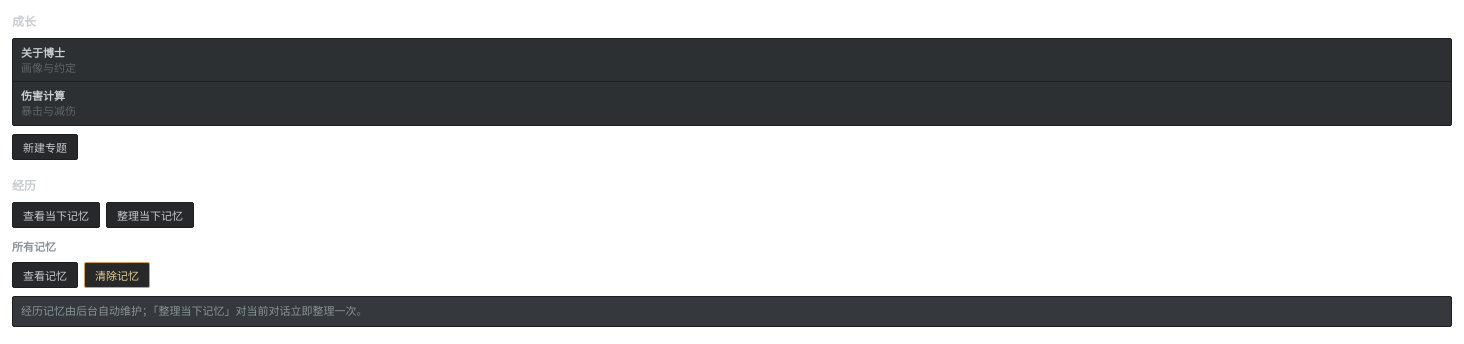
SettingsMemory（结构定稿） › 查看记忆：按日期分组（新在前）、默认只标题、点开看内容；无来源与标签
The image size is (1464, 344).
Click the button "查看记忆" at (45, 275), box [12,262,78,288]
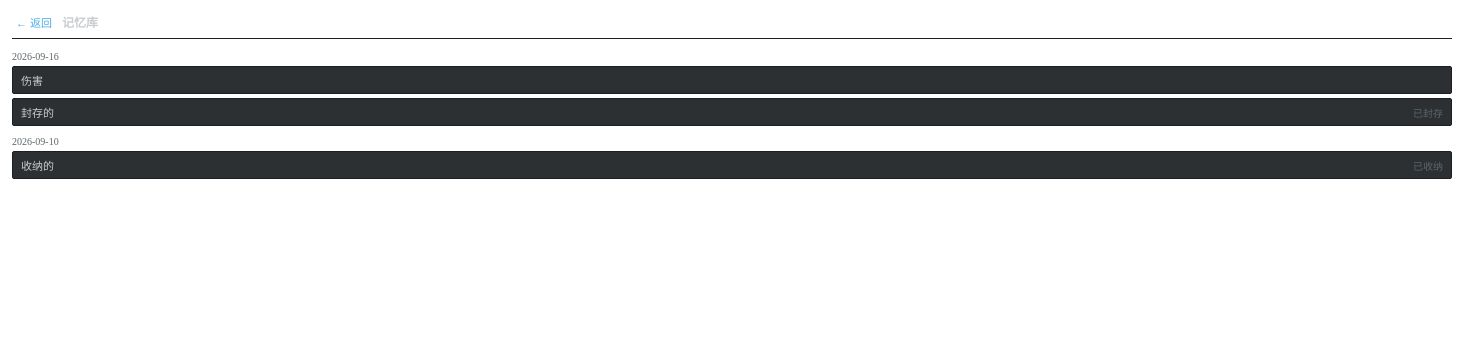
Click the button "伤害" at (32, 81), box [13,67,1451,93]
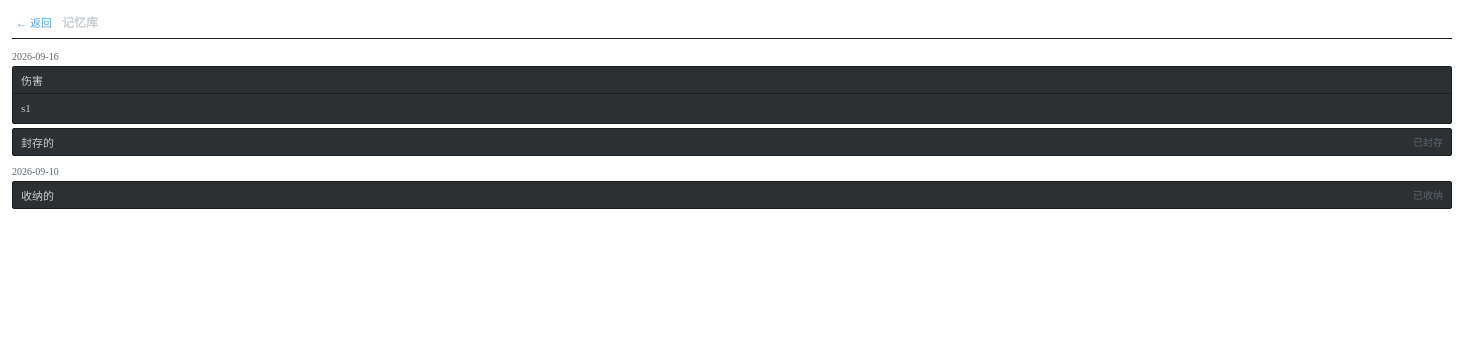
Check: the text "s1" is shown, box [13,93,1451,122]
Click the button "伤害" at (32, 81), box [13,67,1451,93]
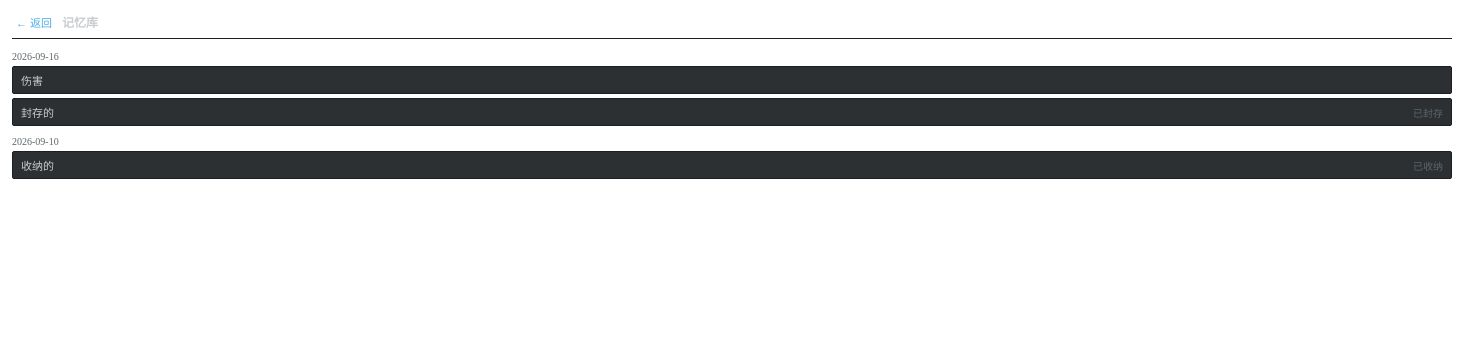
Check: the text "s1" is gone
